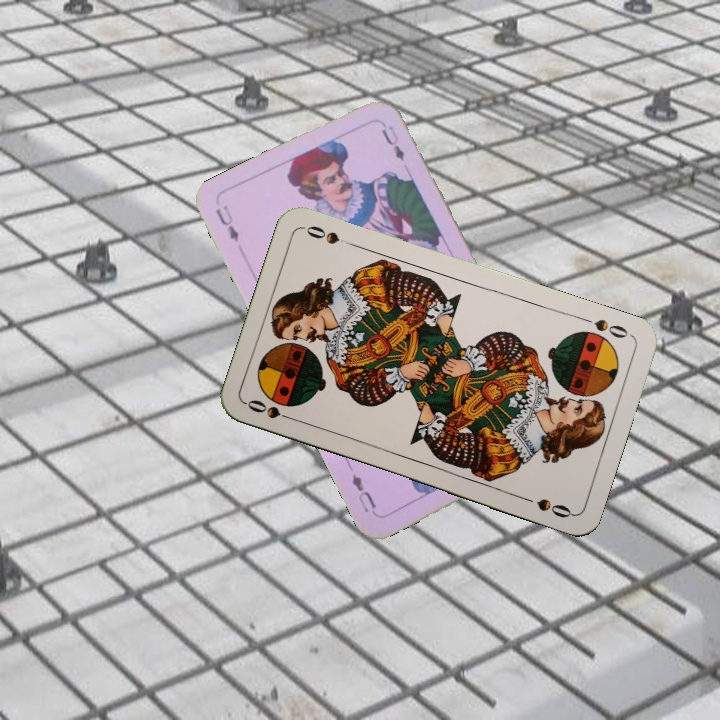EU: (211, 201, 242, 245)
SO: (243, 395, 300, 425), (577, 313, 634, 341)
